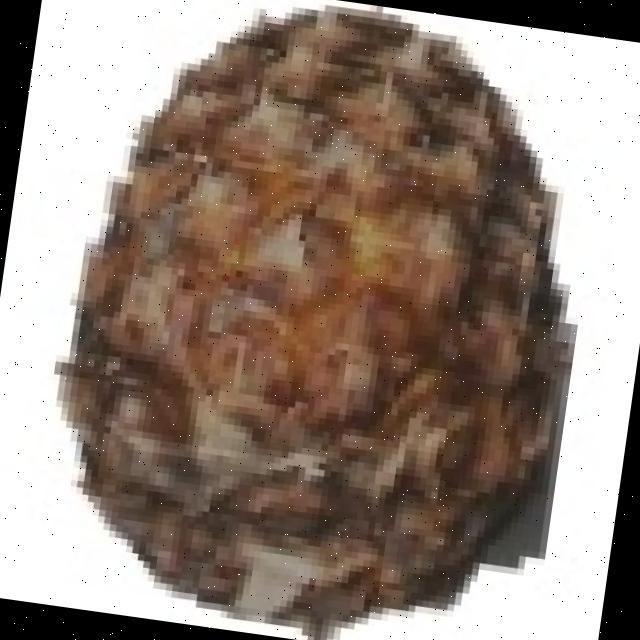pineapple: (57, 1, 558, 610)
